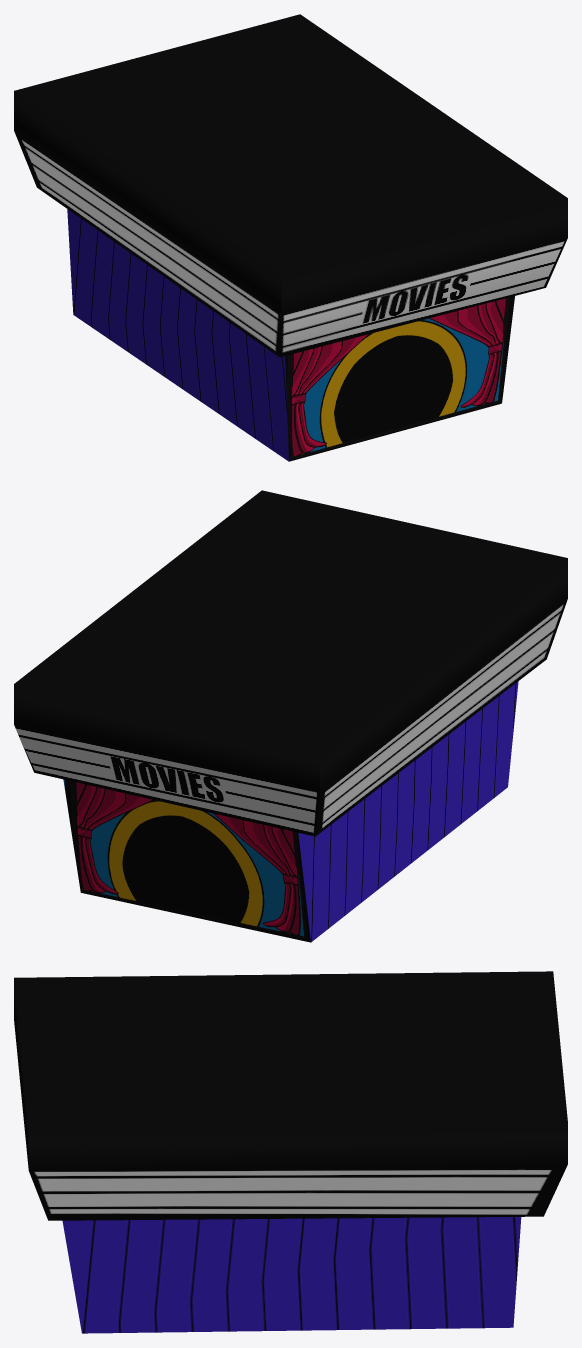
File: Cinema.fbx
3 views of the same model, one above another, from view 1: azimuth 30°, elevation 25°; view 2: azimuth 150°, elevation 25°; view 3: azimuth 270°, elevation 25° (orthographic). The views are drawn at different scales.
Visible parts, largest first — view 1: TODOS:Hospital_Cine_Cafe:polySurface2; view 2: TODOS:Hospital_Cine_Cafe:polySurface2; view 3: TODOS:Hospital_Cine_Cafe:polySurface2.
Boxes of the visible parts, x1,y1,x2,y2 form: TODOS:Hospital_Cine_Cafe:polySurface2: (14, 14, 567, 461); TODOS:Hospital_Cine_Cafe:polySurface2: (14, 490, 567, 942); TODOS:Hospital_Cine_Cafe:polySurface2: (14, 971, 567, 1333).
Size of the model in its own units: 23.33 by 15.6 by 34.7.
